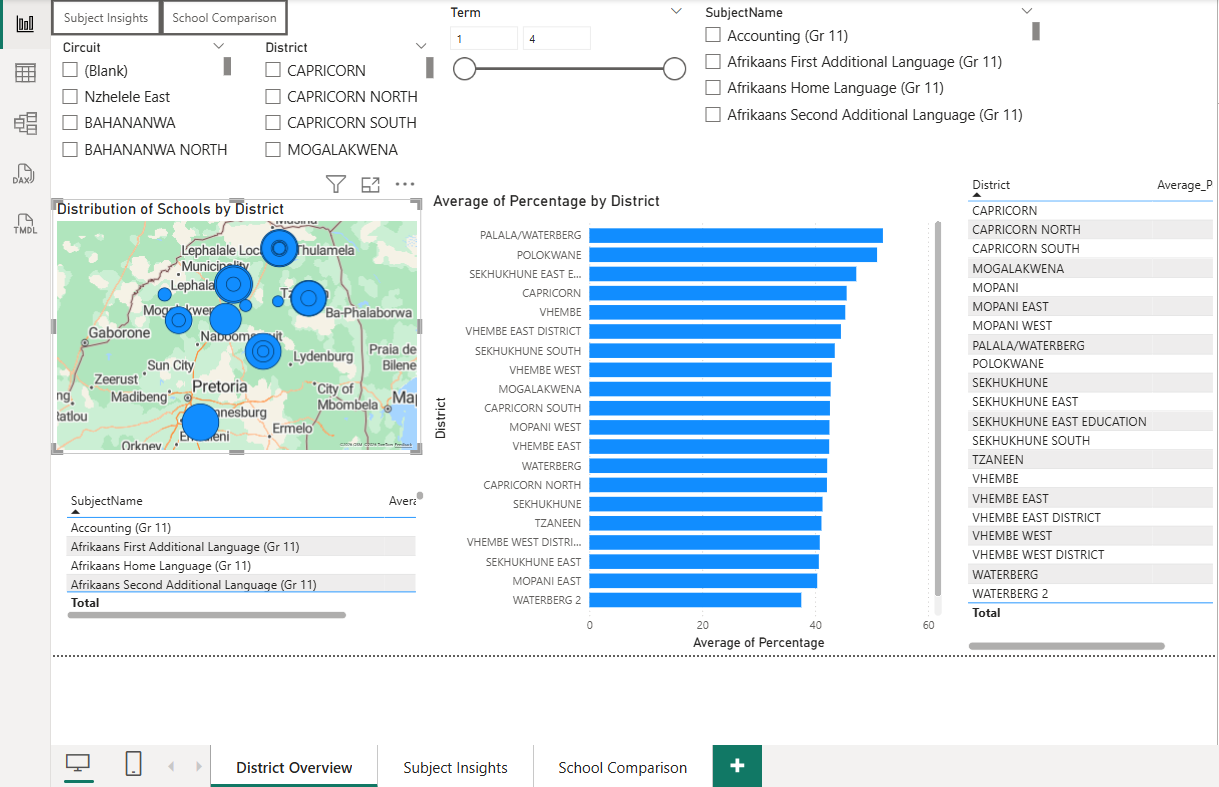

What the dashboard file says about the page in this screenshot:
{"tool":"powerbi","page":{"name":"District Overview","canvas":[1280,720],"ordinal":0},"visuals":[{"type":"map","title":"Distribution of Schools by District","fields":{"Category":["Sheet2.District"],"Size":["CountNonNull(Sheet2.SchoolName)"]},"box":[1.2,218.9,404.8,280],"z":0},{"type":"slicer","fields":{"Values":["Sheet2.District"]},"box":[222.6,40.4,203,148],"z":1000},{"type":"slicer","fields":{"Values":["Sheet2.Circuit"]},"box":[0,40.4,203,146.7],"z":2000},{"type":"slicer","fields":{"Values":["Sheet2.Term"]},"box":[425.5,1.2,280,150.4],"z":3000},{"type":"tableEx","fields":{"Values":["Sheet2.District","Sheet2.Average_Percentage"]},"box":[1000.3,188.3,280,531.9],"z":4000},{"type":"tableEx","fields":{"Values":["Sheet2.Name","Sheet2.Average_Percentage"]},"box":[11,535.6,403.5,150.4],"z":5000},{"type":"slicer","fields":{"Values":["Sheet2.Name"]},"box":[705.6,1.2,385.2,149.2],"z":6000},{"type":"clusteredBarChart","fields":{"Category":["Sheet2.District"],"Y":["Avg(Sheet2.Percentage)"]},"box":[414.5,211.6,568.6,508.7],"z":7000},{"type":"actionButton","box":[0,0,121.1,40.4],"z":8000},{"type":"actionButton","box":[121.1,0,139.4,40.4],"z":9000}]}

Visuals, with their boxes on the page's 1280x720 design canvas (x1, y1, x2, y2). These are canvas units, not pixel positions in the 1219x787 screenshot, which may show the page scaled, cropped or inside an application window:
"Distribution of Schools by District" map: box=[1, 219, 406, 499]
slicer - Sheet2.District: box=[223, 40, 426, 188]
slicer - Sheet2.Circuit: box=[0, 40, 203, 187]
slicer - Sheet2.Term: box=[426, 1, 706, 152]
tableEx - Sheet2.District x Sheet2.Average_Percentage: box=[1000, 188, 1280, 720]
tableEx - Sheet2.Name x Sheet2.Average_Percentage: box=[11, 536, 414, 686]
slicer - Sheet2.Name: box=[706, 1, 1091, 150]
clusteredBarChart - Sheet2.District x Avg(Sheet2.Percentage): box=[414, 212, 983, 720]
actionButton: box=[0, 0, 121, 40]
actionButton: box=[121, 0, 260, 40]
